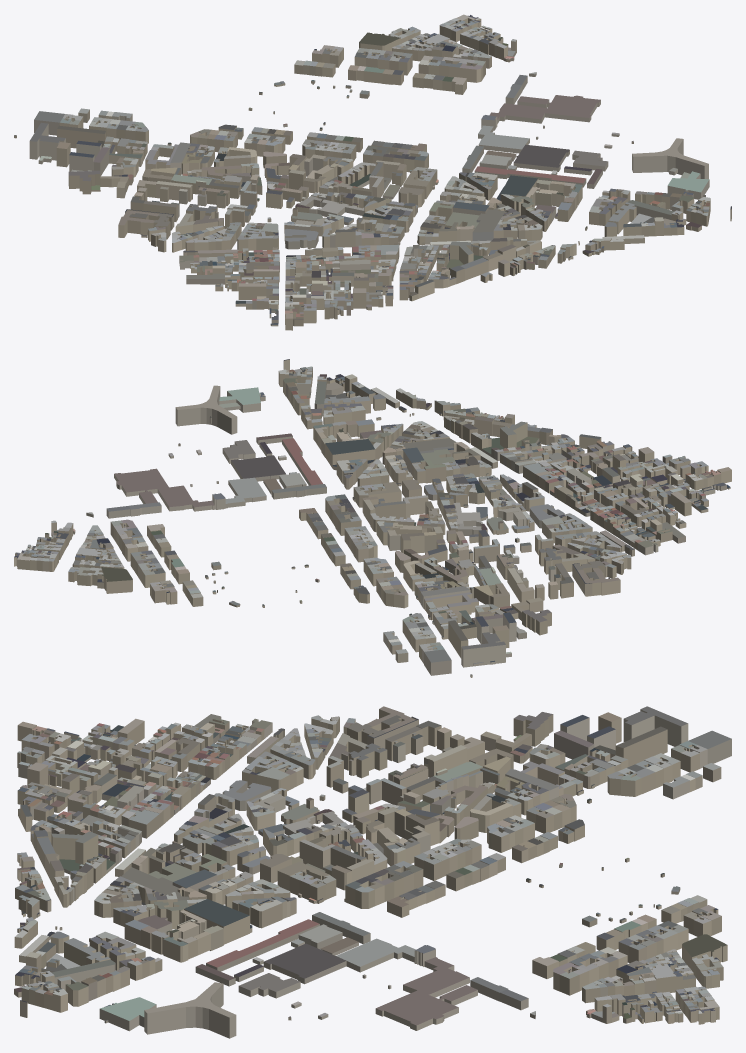
The picture shows the model from 3 angles, top to bottom: view 1: azimuth 30°, elevation 25°; view 2: azimuth 150°, elevation 25°; view 3: azimuth 270°, elevation 25°; orthographic projection. The views are drawn at different scales.
Visible parts, largest first — view 1: tuile; view 2: tuile; view 3: tuile.
Boxes of the visible parts, left/top/right/bottom form: tuile: left=14, top=14, right=731, bottom=330; tuile: left=14, top=359, right=731, bottom=677; tuile: left=14, top=706, right=731, bottom=1038.
Size of the model in its own units: 1088 by 49.12 by 1033.
